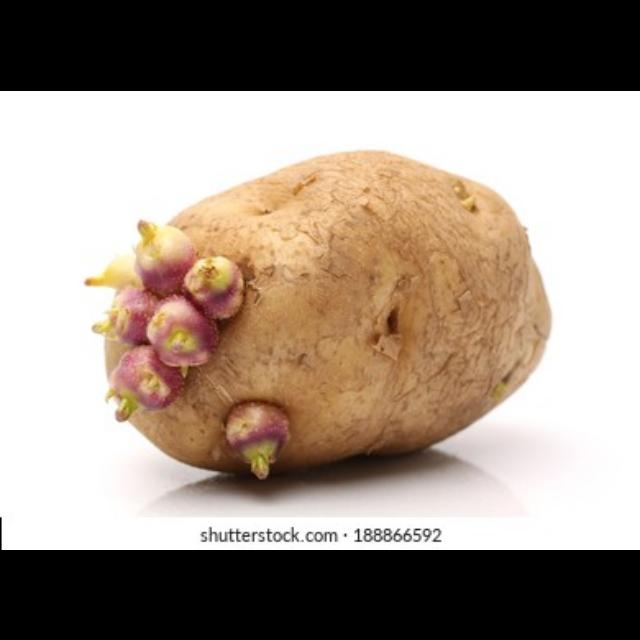Sprouted potato: (90, 144, 540, 492)
